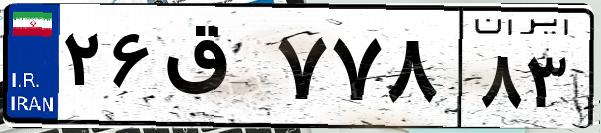2: (57, 26, 110, 100)
3: (525, 38, 570, 115)
6: (110, 28, 158, 98)
7: (270, 28, 330, 110), (330, 28, 385, 110)
8: (385, 28, 445, 110), (475, 38, 525, 113)
ق: (158, 20, 270, 120)
